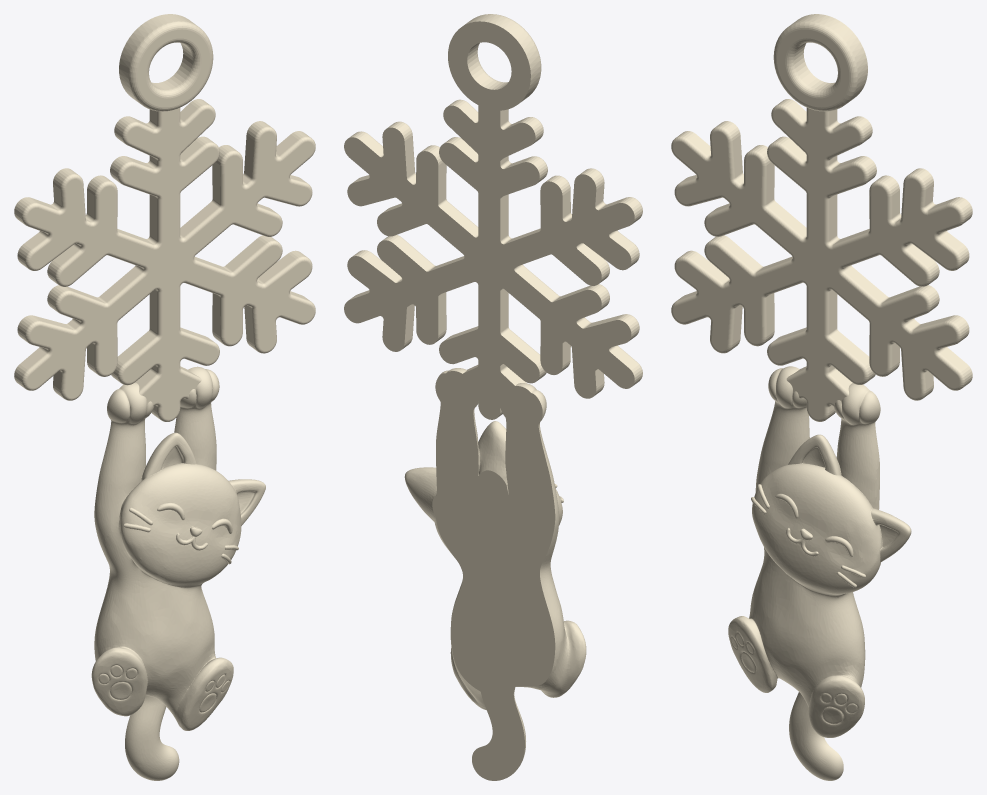
The model's file is adorno-gato-copo-de-nieve.glb.
3 views of the same model, side by side, from view 1: azimuth 30°, elevation 25°; view 2: azimuth 150°, elevation 25°; view 3: azimuth 330°, elevation 25° (orthographic).
Bounding box in the file's own units: 52.49 × 131 × 9.1.
